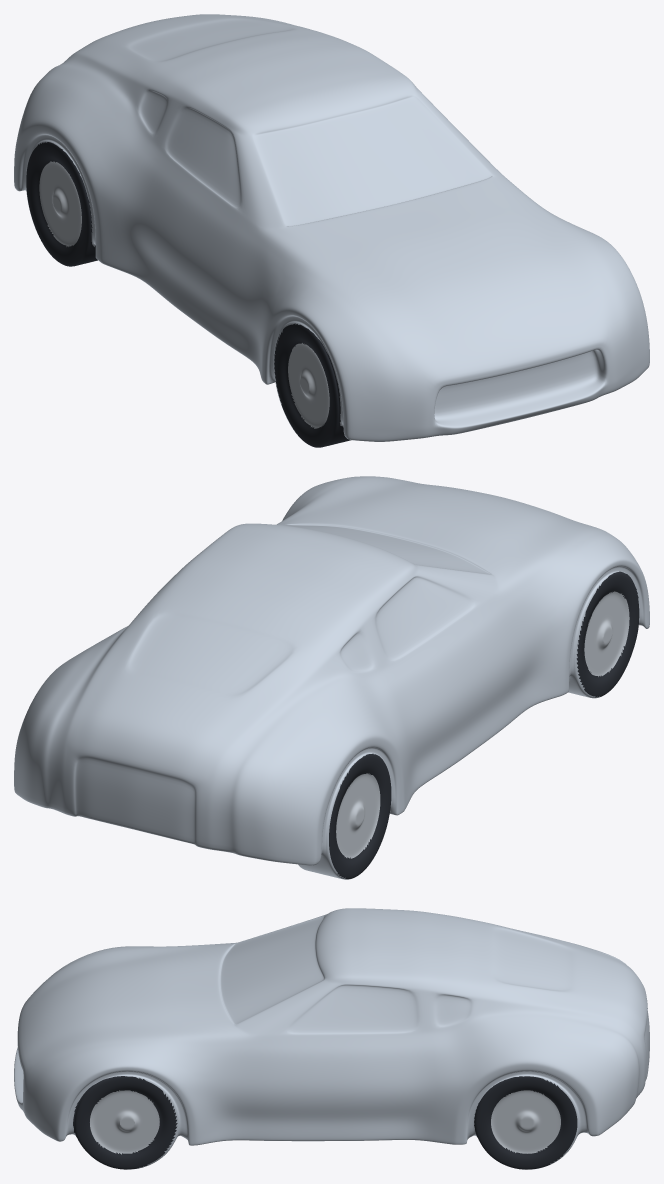
File: car_v2.glb
3 renders of one model, top to bottom at view 1: azimuth 30°, elevation 25°; view 2: azimuth 150°, elevation 25°; view 3: azimuth 270°, elevation 25°, orthographic. The views are drawn at different scales.
Parts seen in each view (by area): view 1: Body; view 2: Body; view 3: Body.
Boxes of the visible parts, x1,y1,x2,y2 form: Body: [14, 14, 649, 447]; Body: [14, 476, 649, 879]; Body: [14, 908, 649, 1169].
Bounding box in the file's own units: 1.91 × 1.31 × 4.3.
